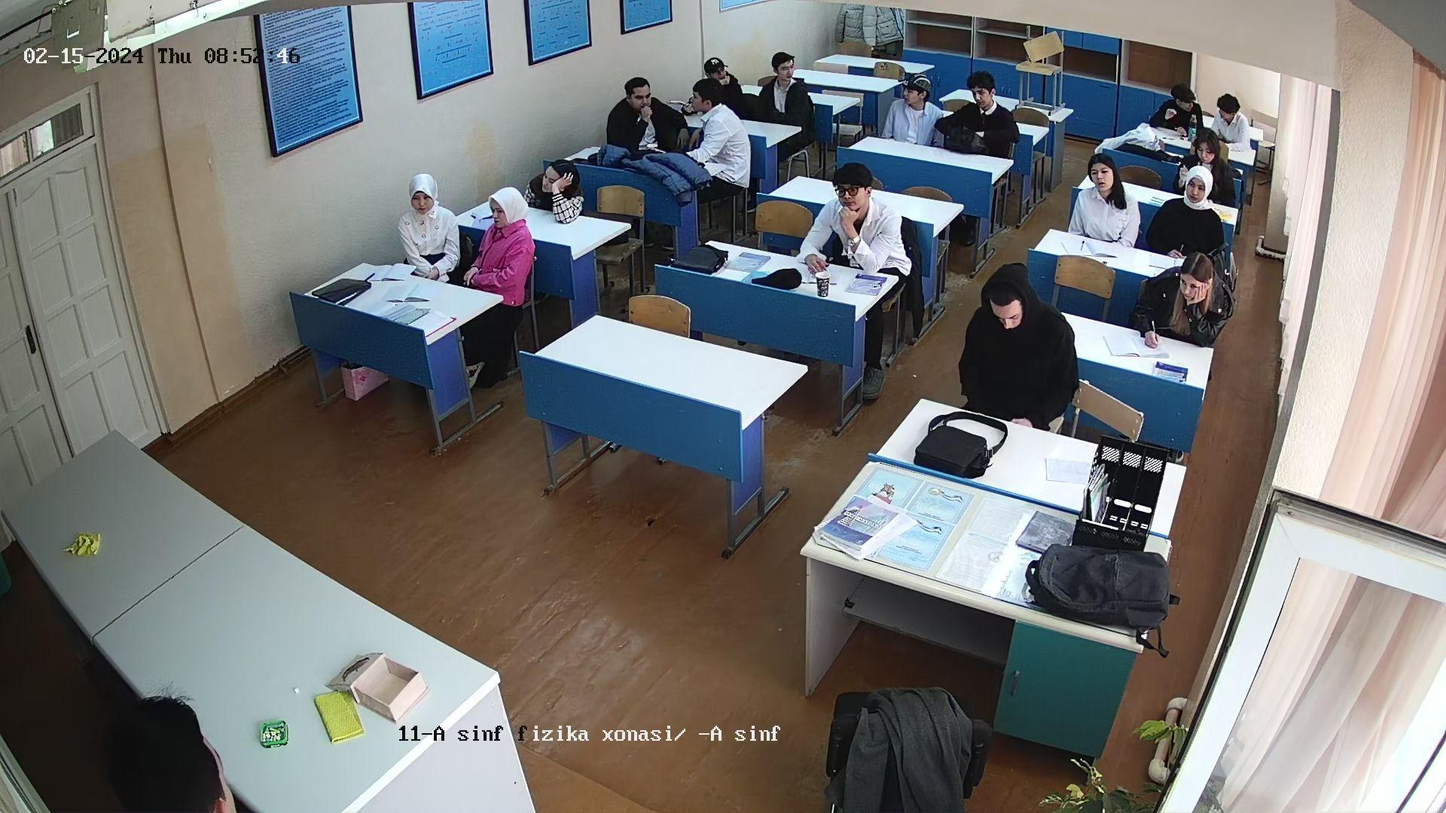Bend Over The Desk: (525, 158, 583, 219)
Look Around: (589, 72, 662, 154), (773, 50, 820, 131), (679, 81, 725, 157), (887, 72, 933, 141), (1160, 81, 1201, 139), (702, 54, 740, 83)
Normal: (811, 160, 900, 266)
